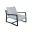chair: (3, 3, 30, 32)
